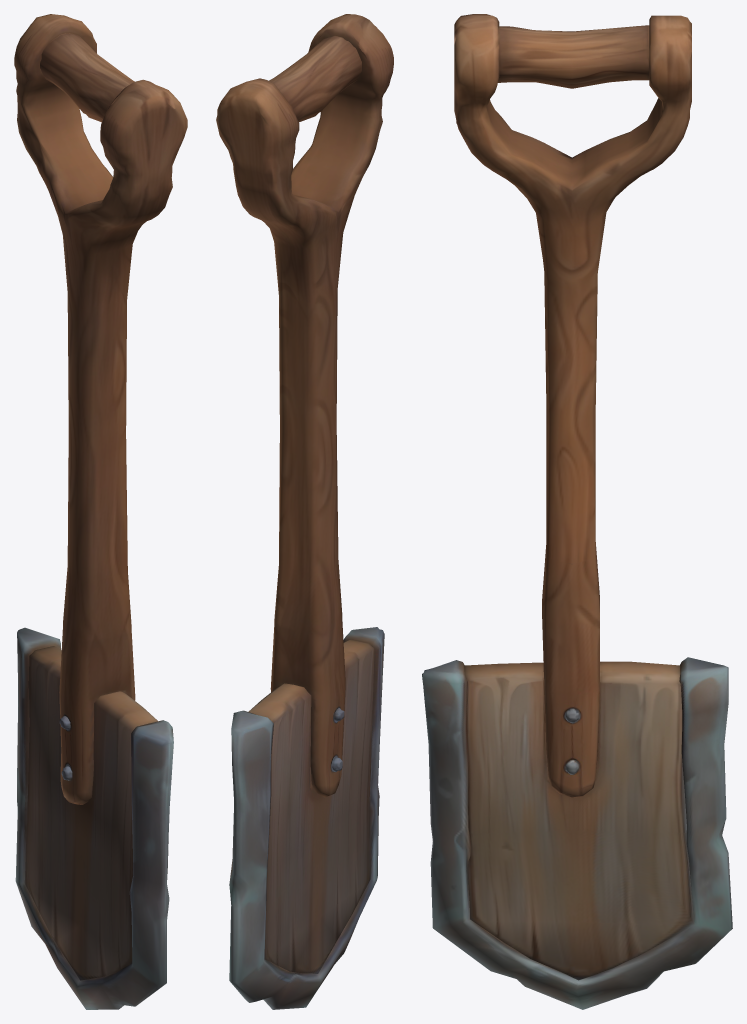
The picture shows the model from 3 angles, left to right: view 1: azimuth 30°, elevation 25°; view 2: azimuth 150°, elevation 25°; view 3: azimuth 270°, elevation 25°; orthographic projection. The views are drawn at different scales.
Visible parts, largest first — view 1: tripo_node_4eff5fb9-f8fb-4fe4-9f53-e22270497c49; view 2: tripo_node_4eff5fb9-f8fb-4fe4-9f53-e22270497c49; view 3: tripo_node_4eff5fb9-f8fb-4fe4-9f53-e22270497c49.
Boxes of the visible parts, x1,y1,x2,y2 form: tripo_node_4eff5fb9-f8fb-4fe4-9f53-e22270497c49: [14, 14, 187, 1009]; tripo_node_4eff5fb9-f8fb-4fe4-9f53-e22270497c49: [216, 14, 393, 1009]; tripo_node_4eff5fb9-f8fb-4fe4-9f53-e22270497c49: [422, 14, 732, 1009].
Bounding box in the file's own units: 0.084 × 0.998 × 0.2832.
1 material, 1 textured.
